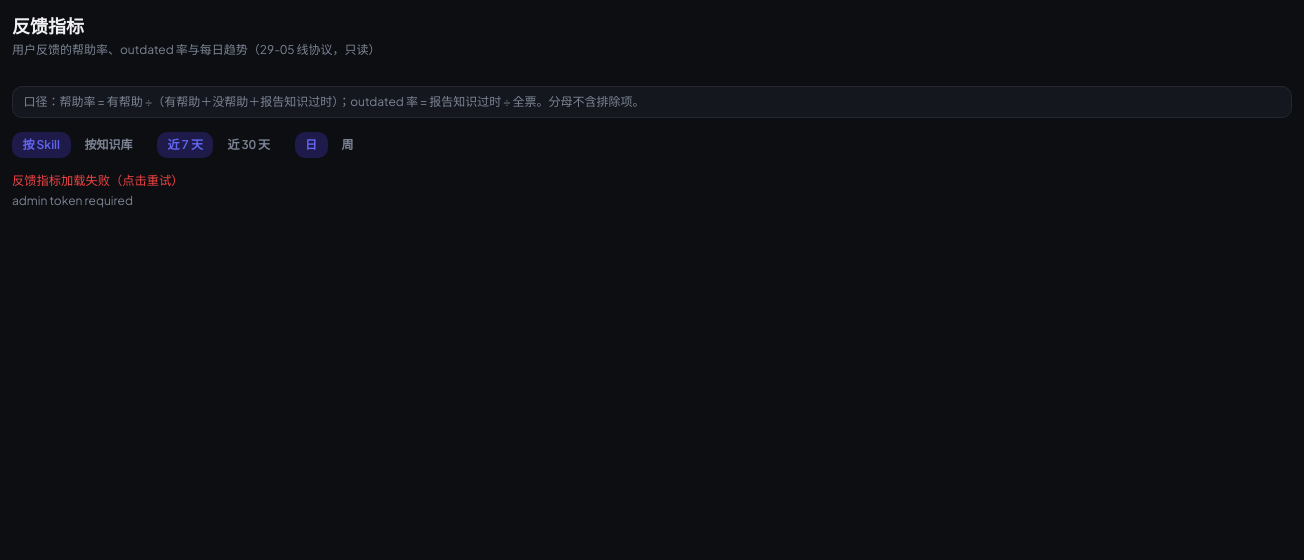
Scenario: FeedbackMetricsPanel — error state › renders the verbatim load error with the server error and recovers on retry
Expected: the text with test id "metrics-error-detail" reads "admin token required", [12,193,133,208]
Click the button with test id "metrics-error". click: (98, 181)
box: [12,172,184,190]
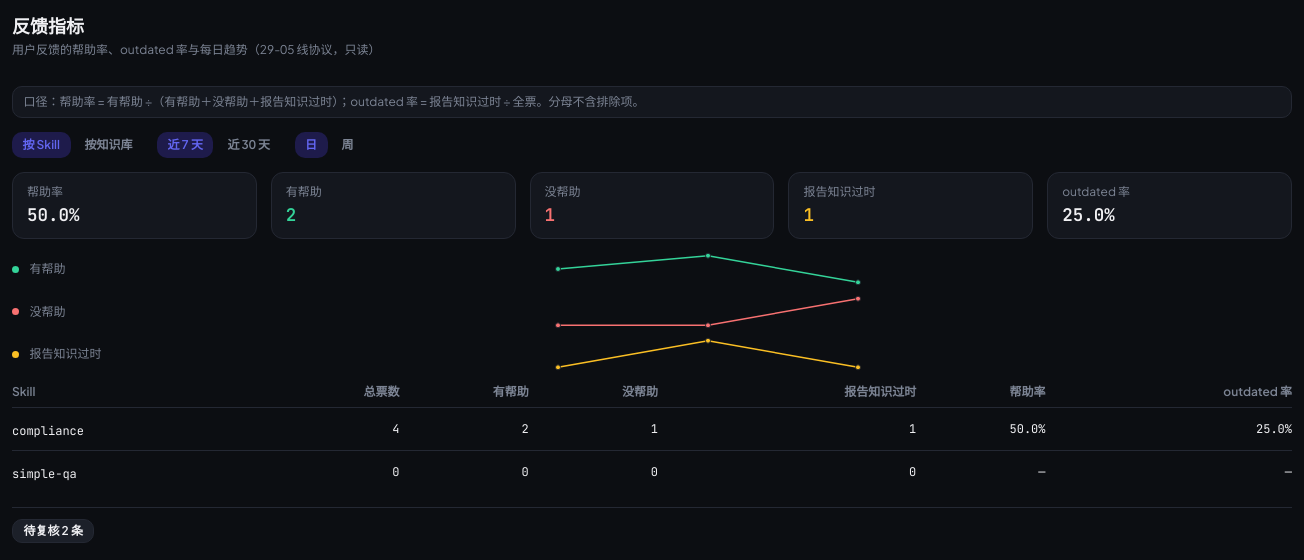
Result: the element with test id "metrics-card-help-rate" shows "50.0%" at [27,203,80,226]
